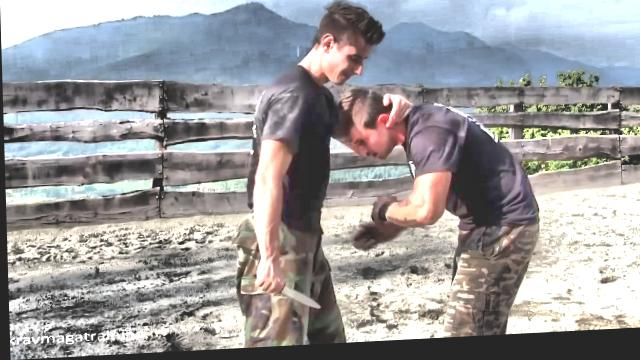knife: (248, 267, 322, 320)
